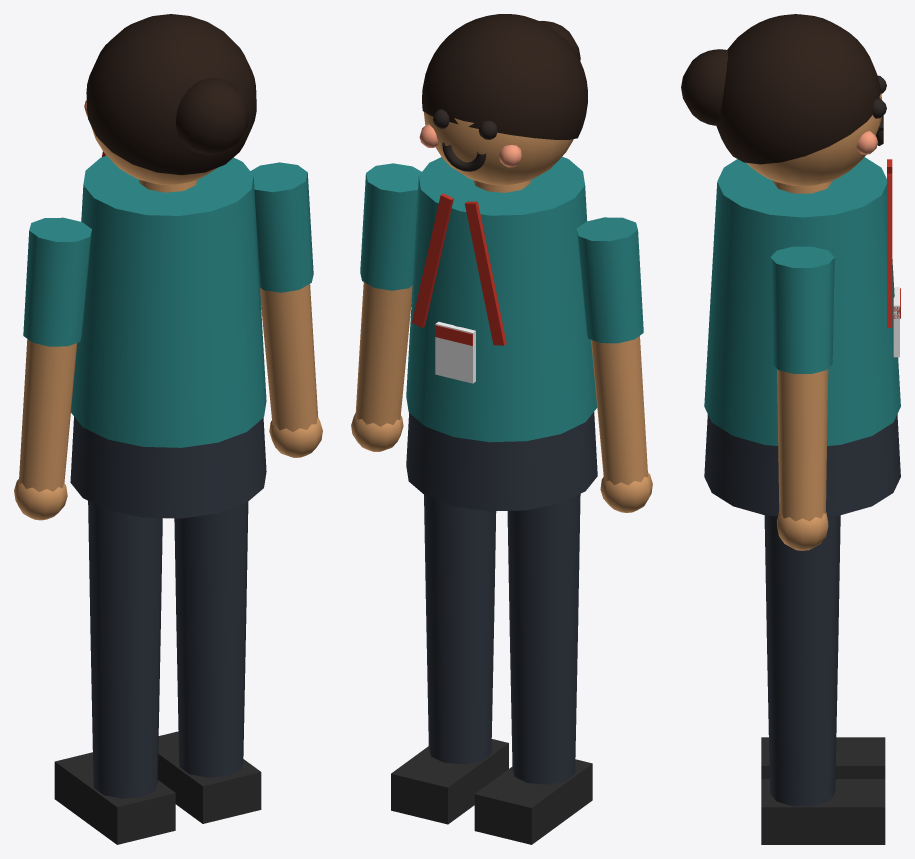
File: teacher.fbx
3 renders of one model, left to right at view 1: azimuth 30°, elevation 25°; view 2: azimuth 150°, elevation 25°; view 3: azimuth 270°, elevation 25°, orthographic. The views are drawn at different scales.
Parts seen in each view (by area): view 1: M__teacher-body, M__teacher-shinL, M__teacher-armL, M__teacher-shinR, M__teacher-armR, M__teacher-legL, M__teacher-legR; view 2: M__teacher-body, M__teacher-shinL, M__teacher-shinR, M__teacher-armL, M__teacher-armR, M__teacher-legL, M__teacher-legR; view 3: M__teacher-body, M__teacher-shinR, M__teacher-armR, M__teacher-legR, M__teacher-shinL.
Part boxes in pixels (x1=…): M__teacher-body: x1=70, y1=14, x2=266, y2=518; M__teacher-shinL: x1=54, y1=632, x2=175, y2=844; M__teacher-armL: x1=14, y1=217, x2=91, y2=520; M__teacher-shinR: x1=157, y1=611, x2=261, y2=823; M__teacher-armR: x1=250, y1=162, x2=322, y2=457; M__teacher-legL: x1=88, y1=501, x2=162, y2=648; M__teacher-legR: x1=174, y1=502, x2=248, y2=627; M__teacher-body: x1=406, y1=14, x2=597, y2=511; M__teacher-shinL: x1=474, y1=622, x2=592, y2=844; M__teacher-shinR: x1=391, y1=602, x2=508, y2=824; M__teacher-armL: x1=576, y1=217, x2=652, y2=512; M__teacher-armR: x1=351, y1=163, x2=421, y2=451; M__teacher-legL: x1=507, y1=494, x2=580, y2=638; M__teacher-legR: x1=424, y1=495, x2=496, y2=618; M__teacher-body: x1=681, y1=14, x2=900, y2=516; M__teacher-shinR: x1=761, y1=643, x2=885, y2=844; M__teacher-armR: x1=770, y1=246, x2=834, y2=550; M__teacher-legR: x1=764, y1=515, x2=840, y2=657; M__teacher-shinL: x1=761, y1=737, x2=885, y2=778.
Size of the model in its own units: 0.67 by 1.68 by 0.425.
